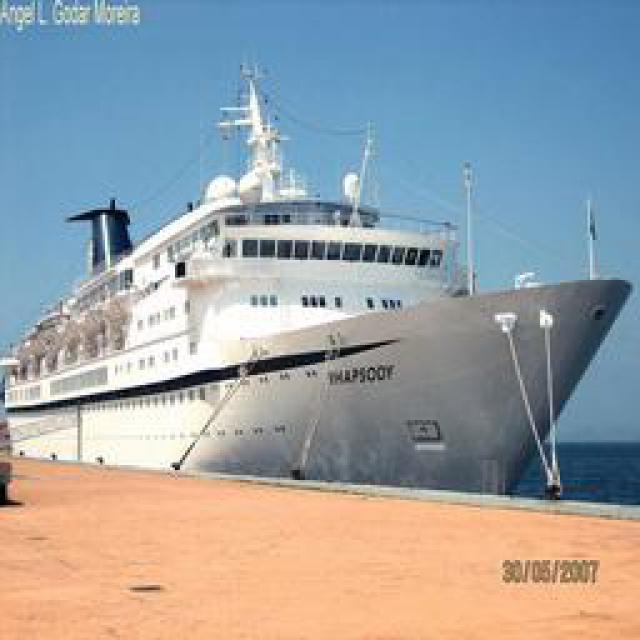Ship: (5, 51, 640, 516)
